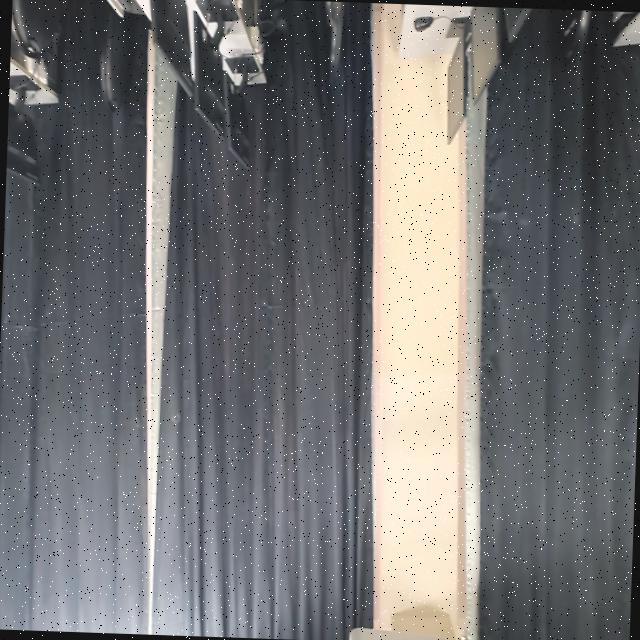Chair: (10, 0, 62, 60), (99, 11, 127, 111), (557, 8, 590, 63), (323, 0, 343, 75)
Monitor: (149, 0, 192, 95), (192, 14, 224, 135), (469, 5, 506, 103), (5, 88, 38, 183), (222, 75, 248, 167), (445, 27, 465, 143)
Mouse: (413, 16, 432, 31)
Projector: (347, 627, 442, 640)
